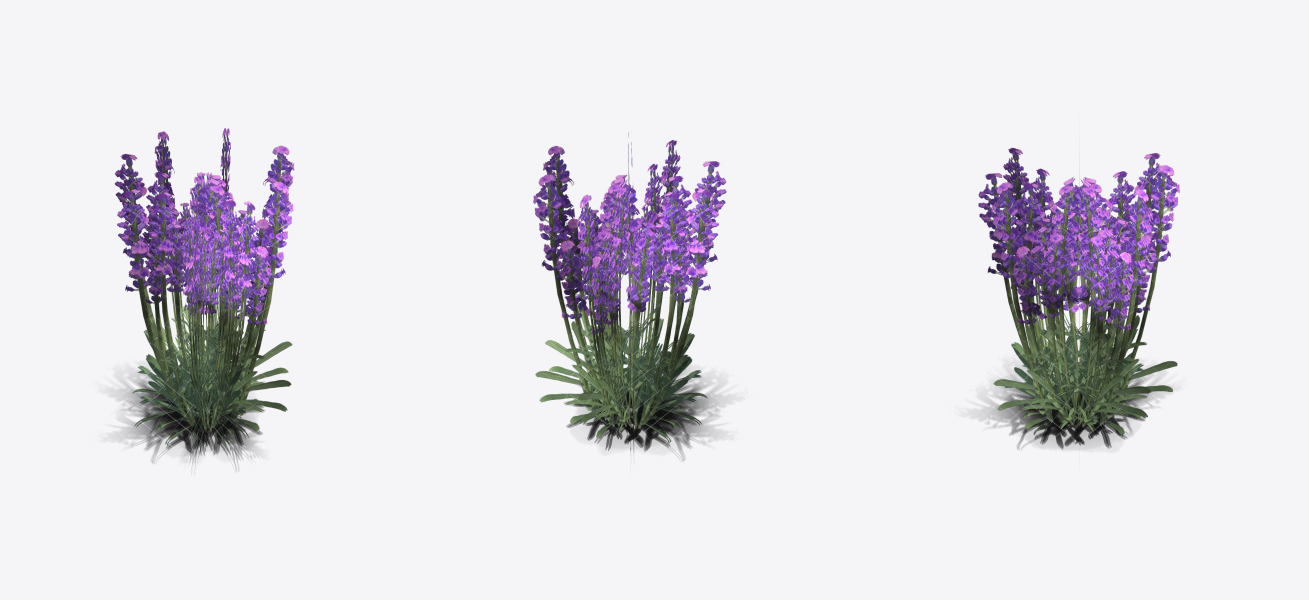
File: flower_01.gltf
3 renders of one model, left to right at view 1: azimuth 30°, elevation 25°; view 2: azimuth 150°, elevation 25°; view 3: azimuth 270°, elevation 25°, orthographic.
Parts seen in each view (by area): view 1: Plane.003_Material_0; view 2: Plane.003_Material_0; view 3: Plane.003_Material_0.
Part boxes in pixels (x1,y1,x2,y2): Plane.003_Material_0: [114, 128, 294, 465]; Plane.003_Material_0: [533, 132, 726, 460]; Plane.003_Material_0: [978, 148, 1179, 449].
Bounding box in the file's own units: 2 × 2 × 2.
Materials: 1 (1 with a texture image).
